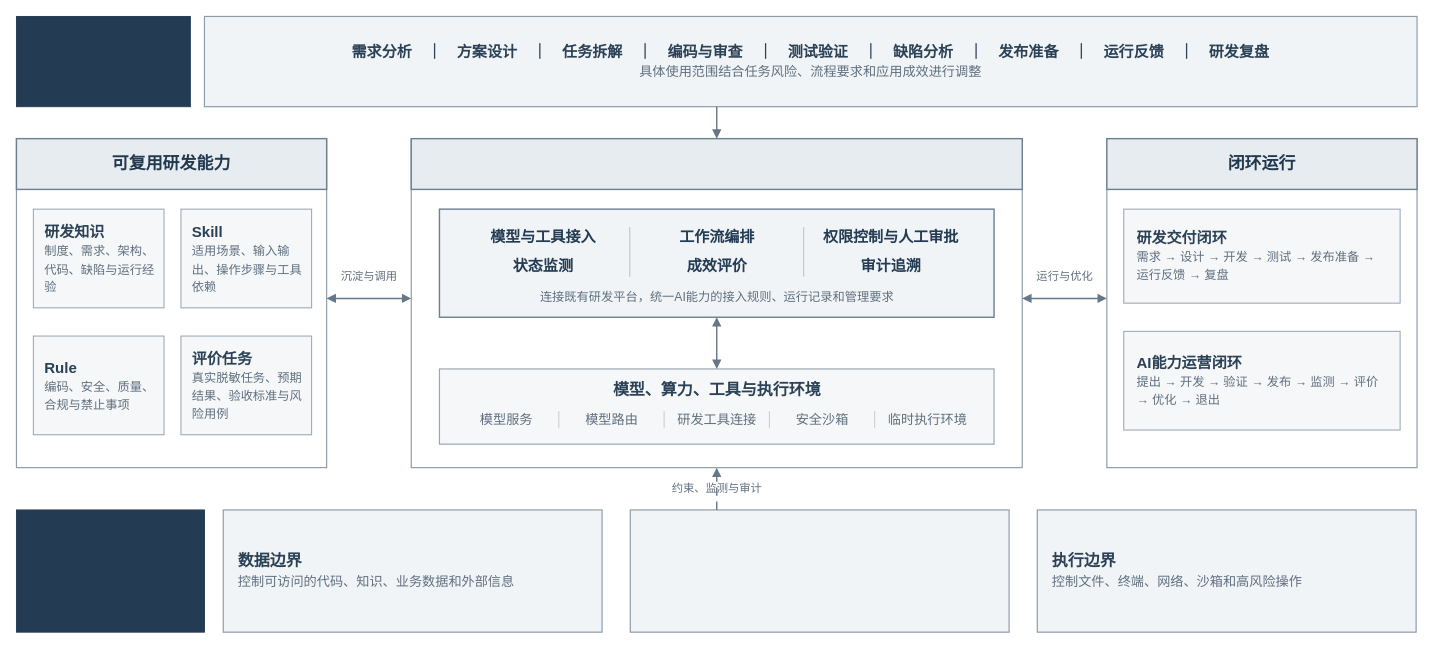
The diagram is 1434 pixels wide and 650 high, and some of its shapes have lost their labels. Here are the shapes that lost their labels. From the top down, the box of each, then its label:
(16, 16, 190, 107): 研发场景
(410, 138, 1023, 190): 统一接入与运行治理
(16, 509, 204, 632): 安全边界
(629, 509, 1009, 632): 权限边界 控制身份、工具、接口、参数和授权时限
